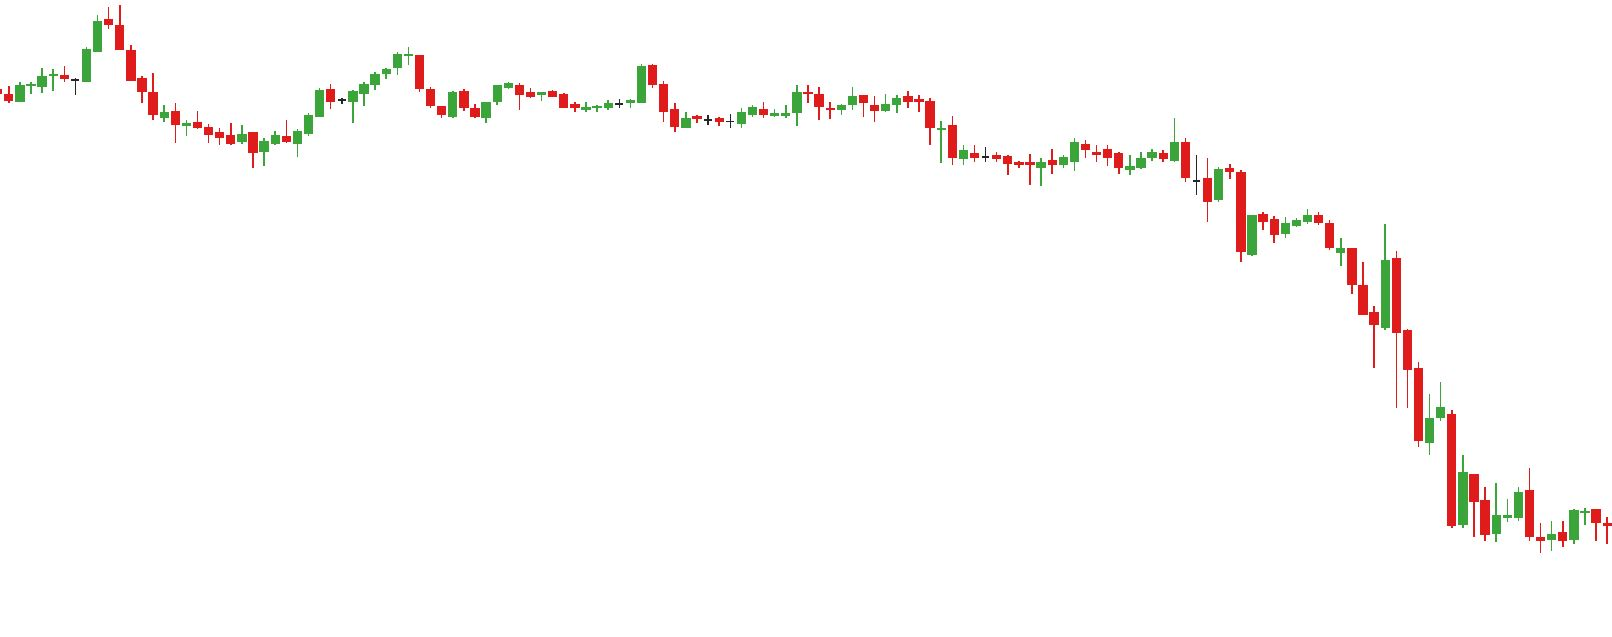sell: (1336, 209, 1404, 343)
